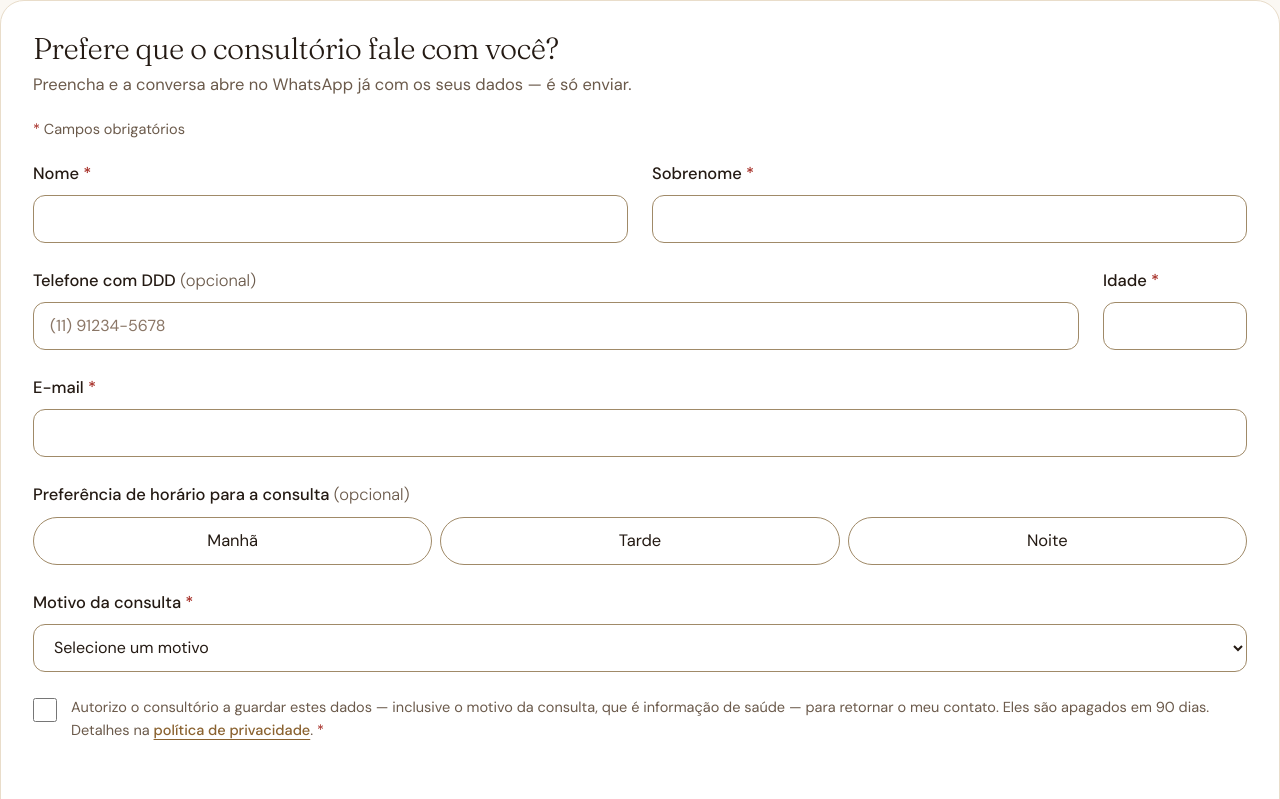
Test: <FormularioContato> › nome com tentativa de injeção é recusado com mensagem clara
The width and height of the screenshot is (1280, 799).
In the field labelled "Nome *": (330, 219) [33,195,628,243], type "x' OR 1=1 --"
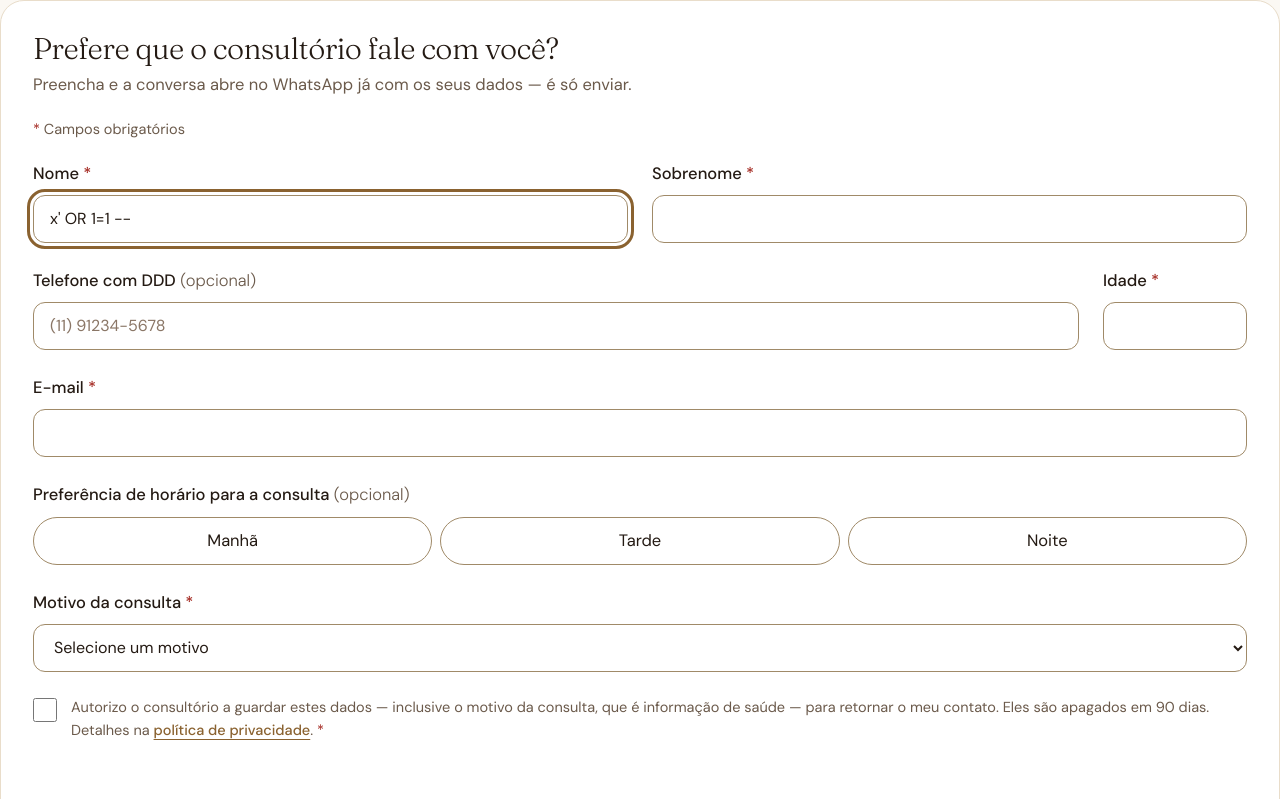
Press Tab
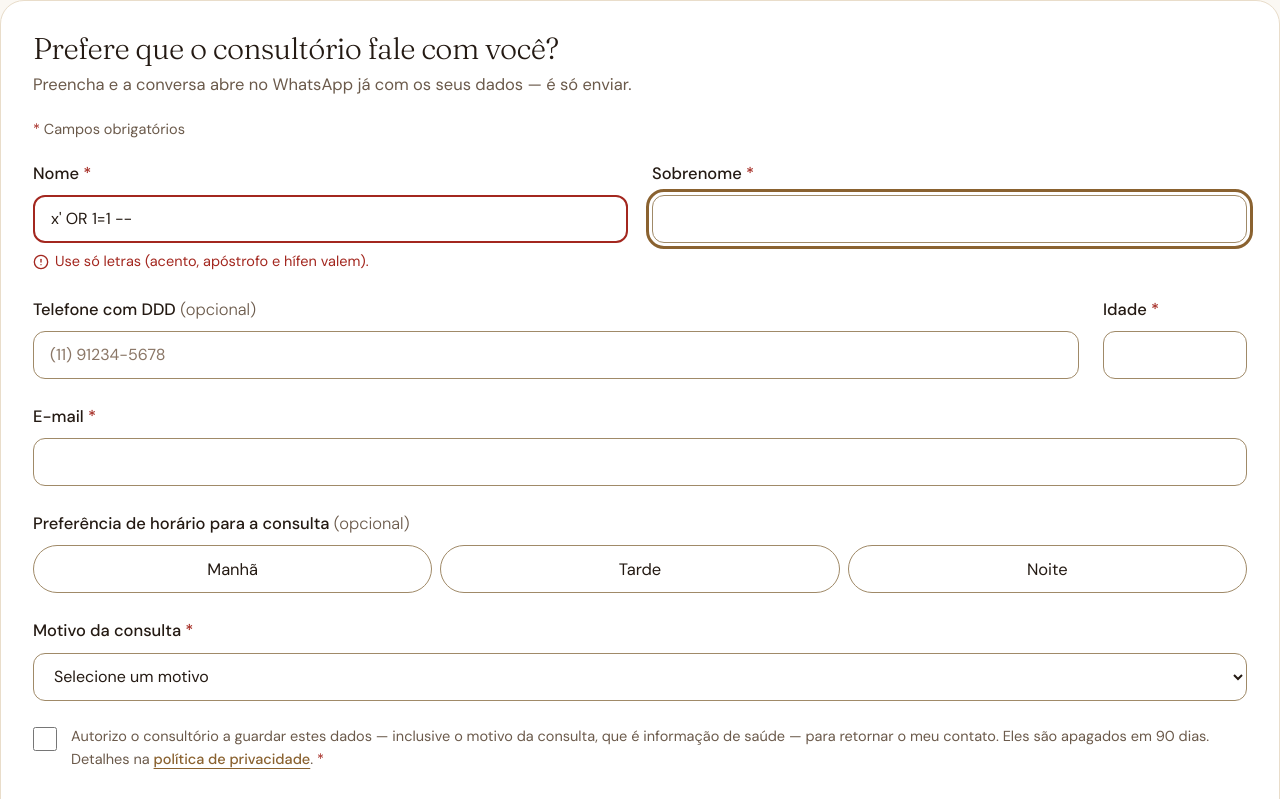
Expected: the text "Use só letras (acento, apóstrofo e hífen valem)." is shown, [55,251,369,272]
